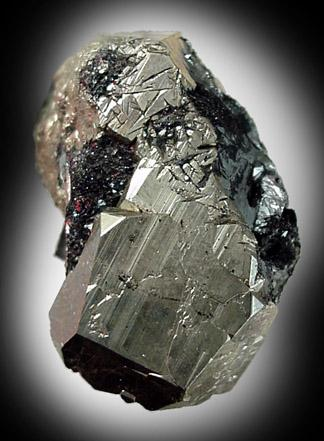silver: (50, 112, 278, 411), (98, 52, 185, 140)
